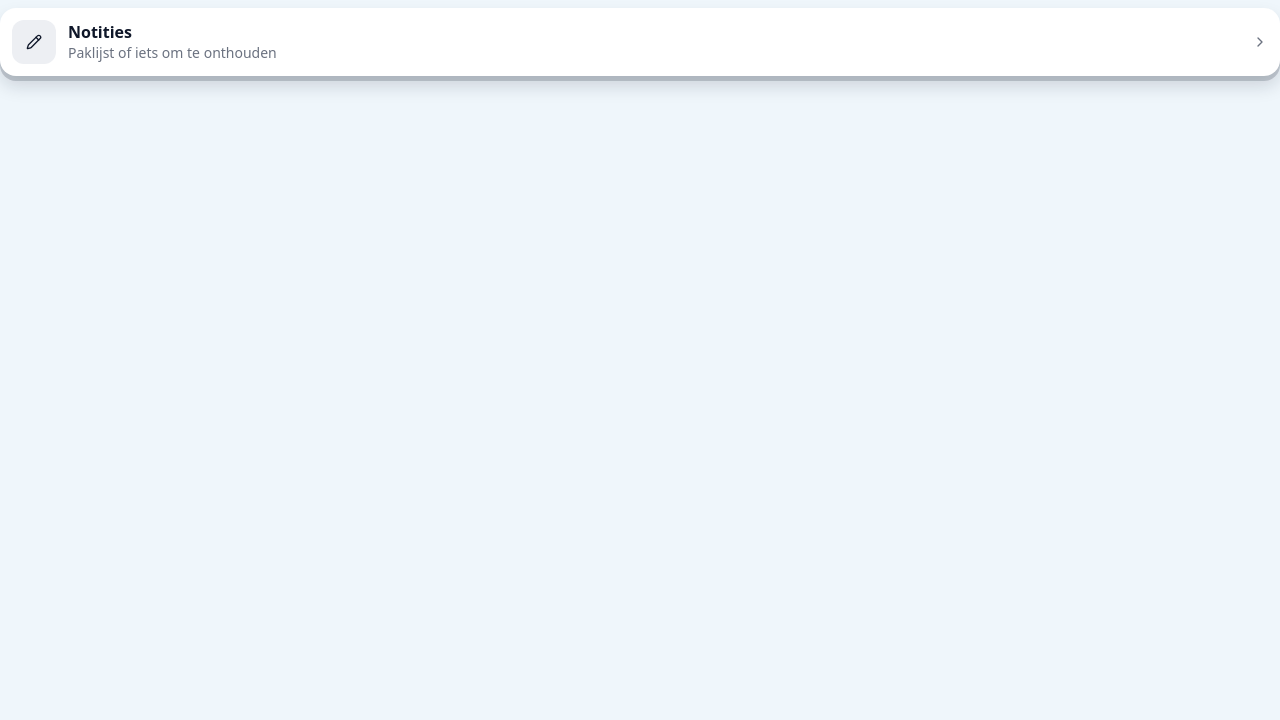
Scenario: documents present › lists the file and keeps the header add action
Click the button "Notities Paklijst of iets om te onthouden" at (34, 42), box [0,8,1279,76]
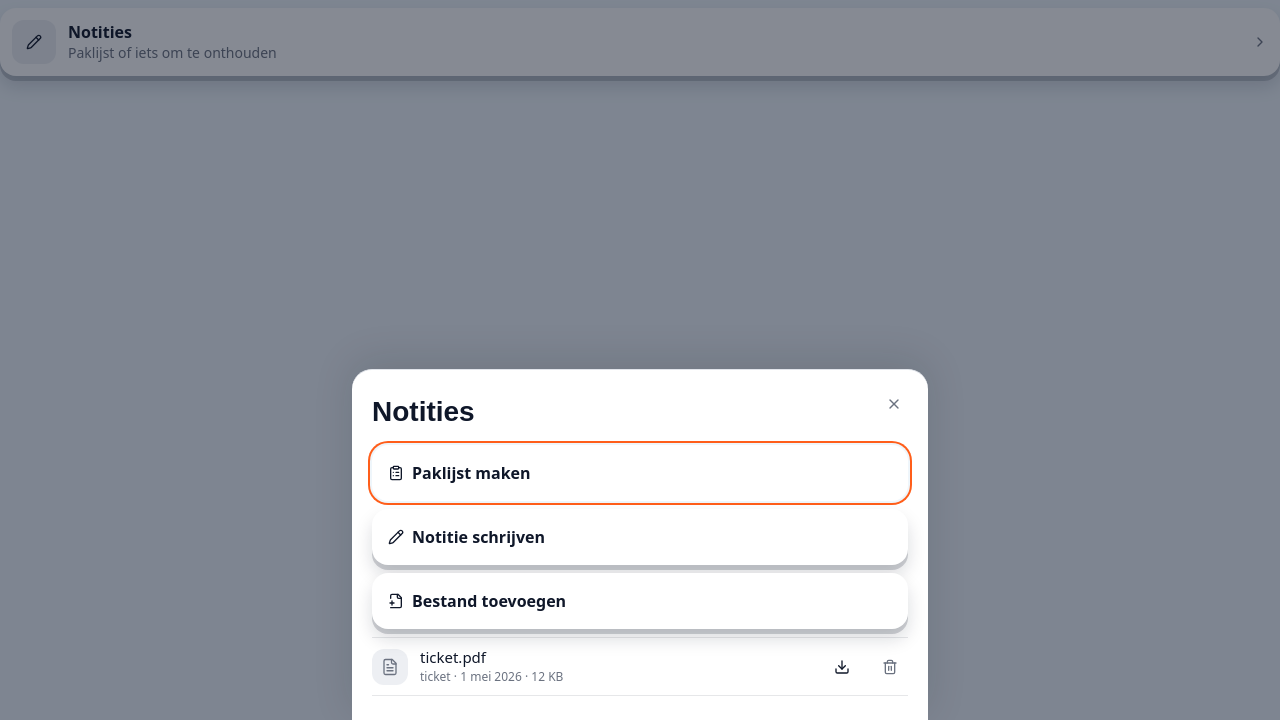
Expected: the text "ticket.pdf" is shown, [420,647,486,667]
Expected: the button "Bestand toevoegen" is shown, [372,573,908,629]
